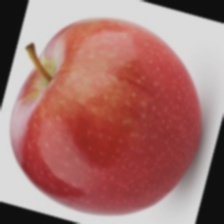apple: (30, 44, 212, 223)
